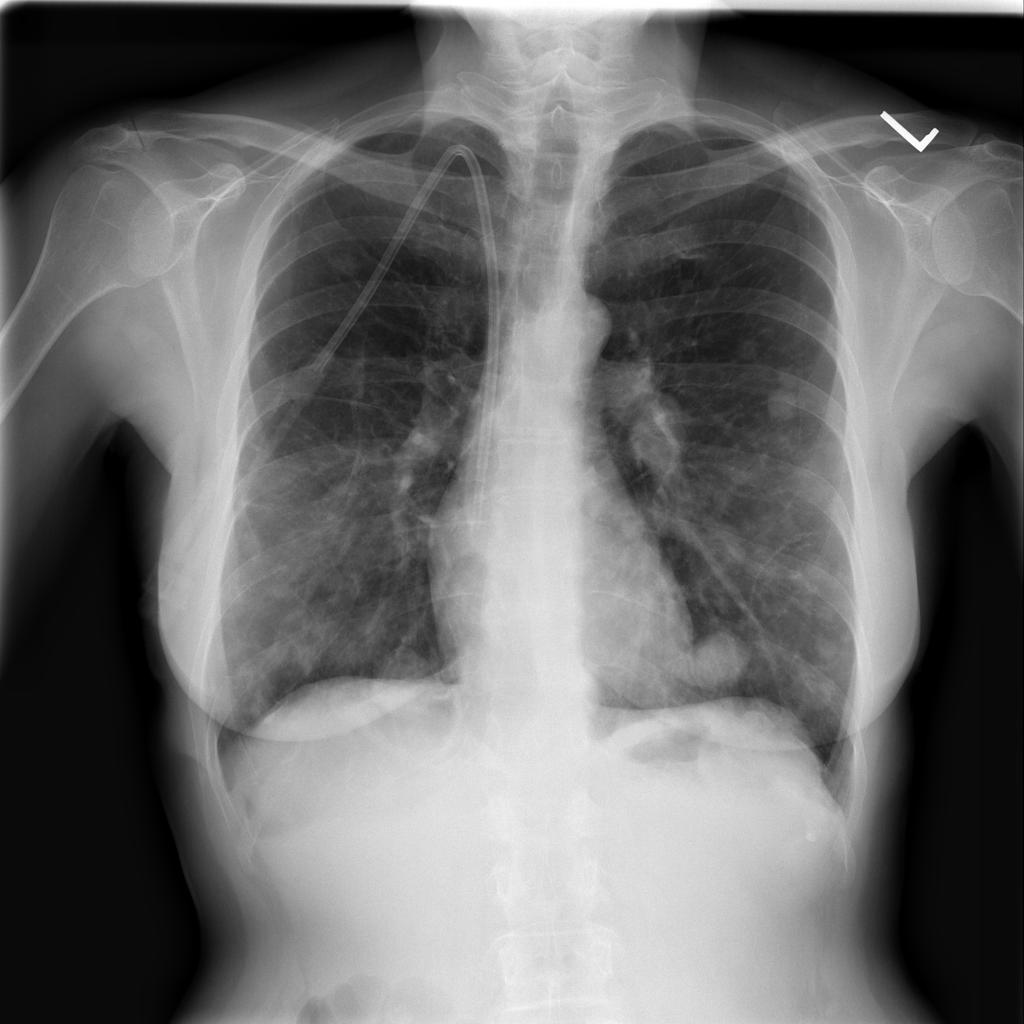nodule: (675, 620, 756, 698), (366, 637, 444, 712), (757, 380, 810, 429), (724, 322, 776, 370), (810, 616, 860, 664)
